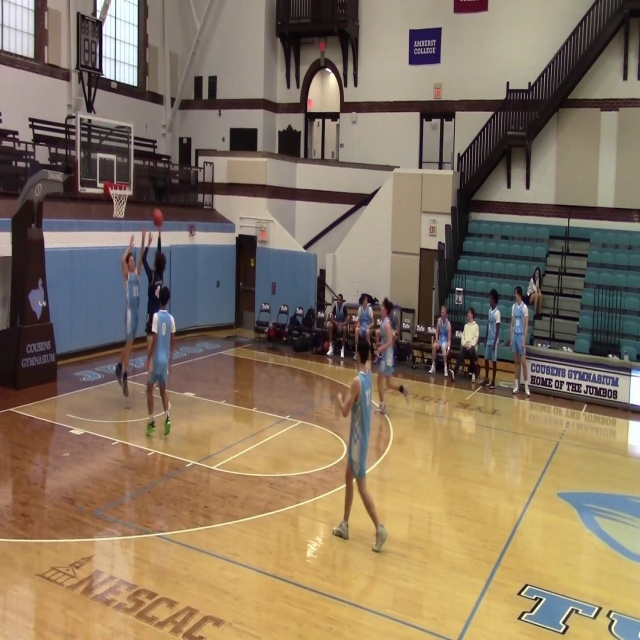Basketball: (153, 208, 163, 227), (189, 224, 195, 236)
